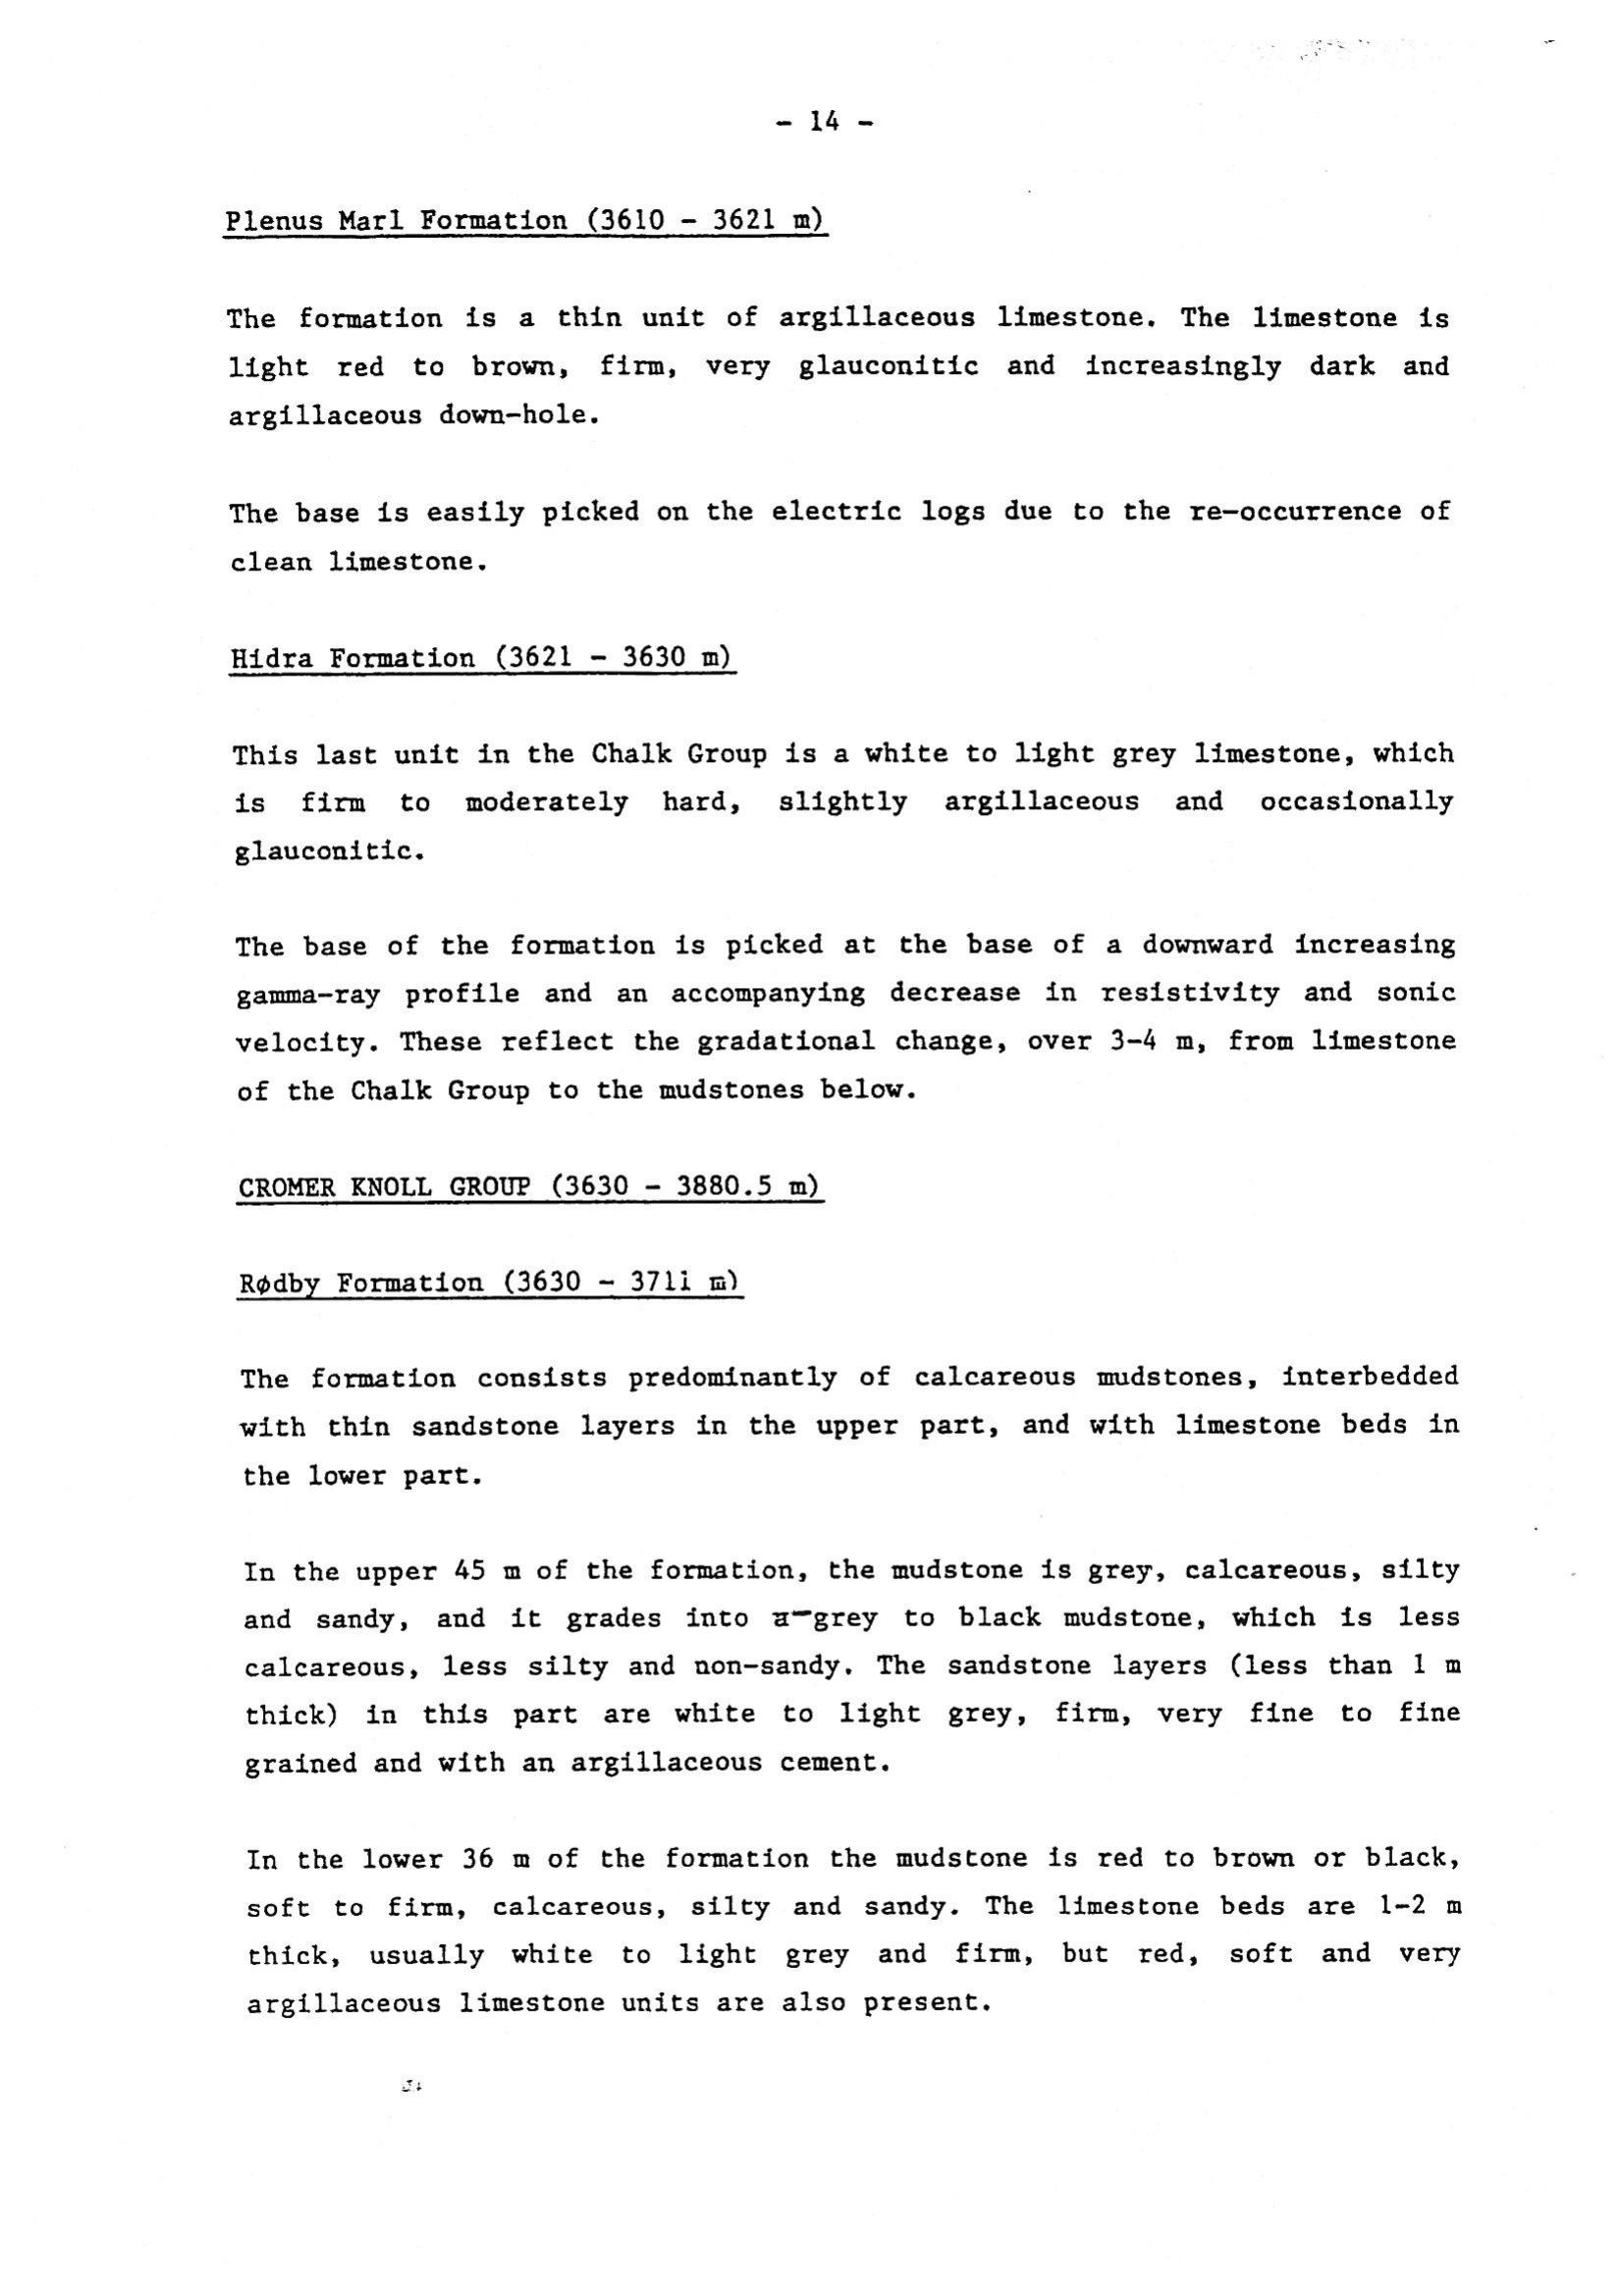text: (211, 188, 1486, 1151), (220, 1158, 1491, 2040)
